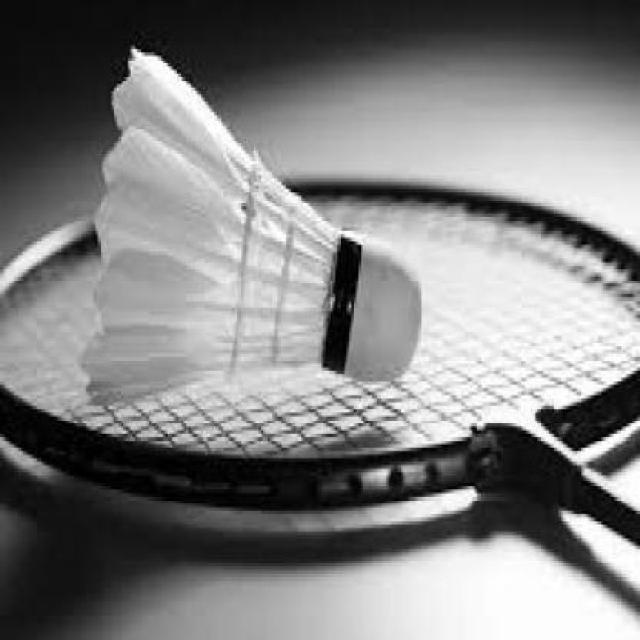Shuttlecock: (79, 40, 421, 408)
